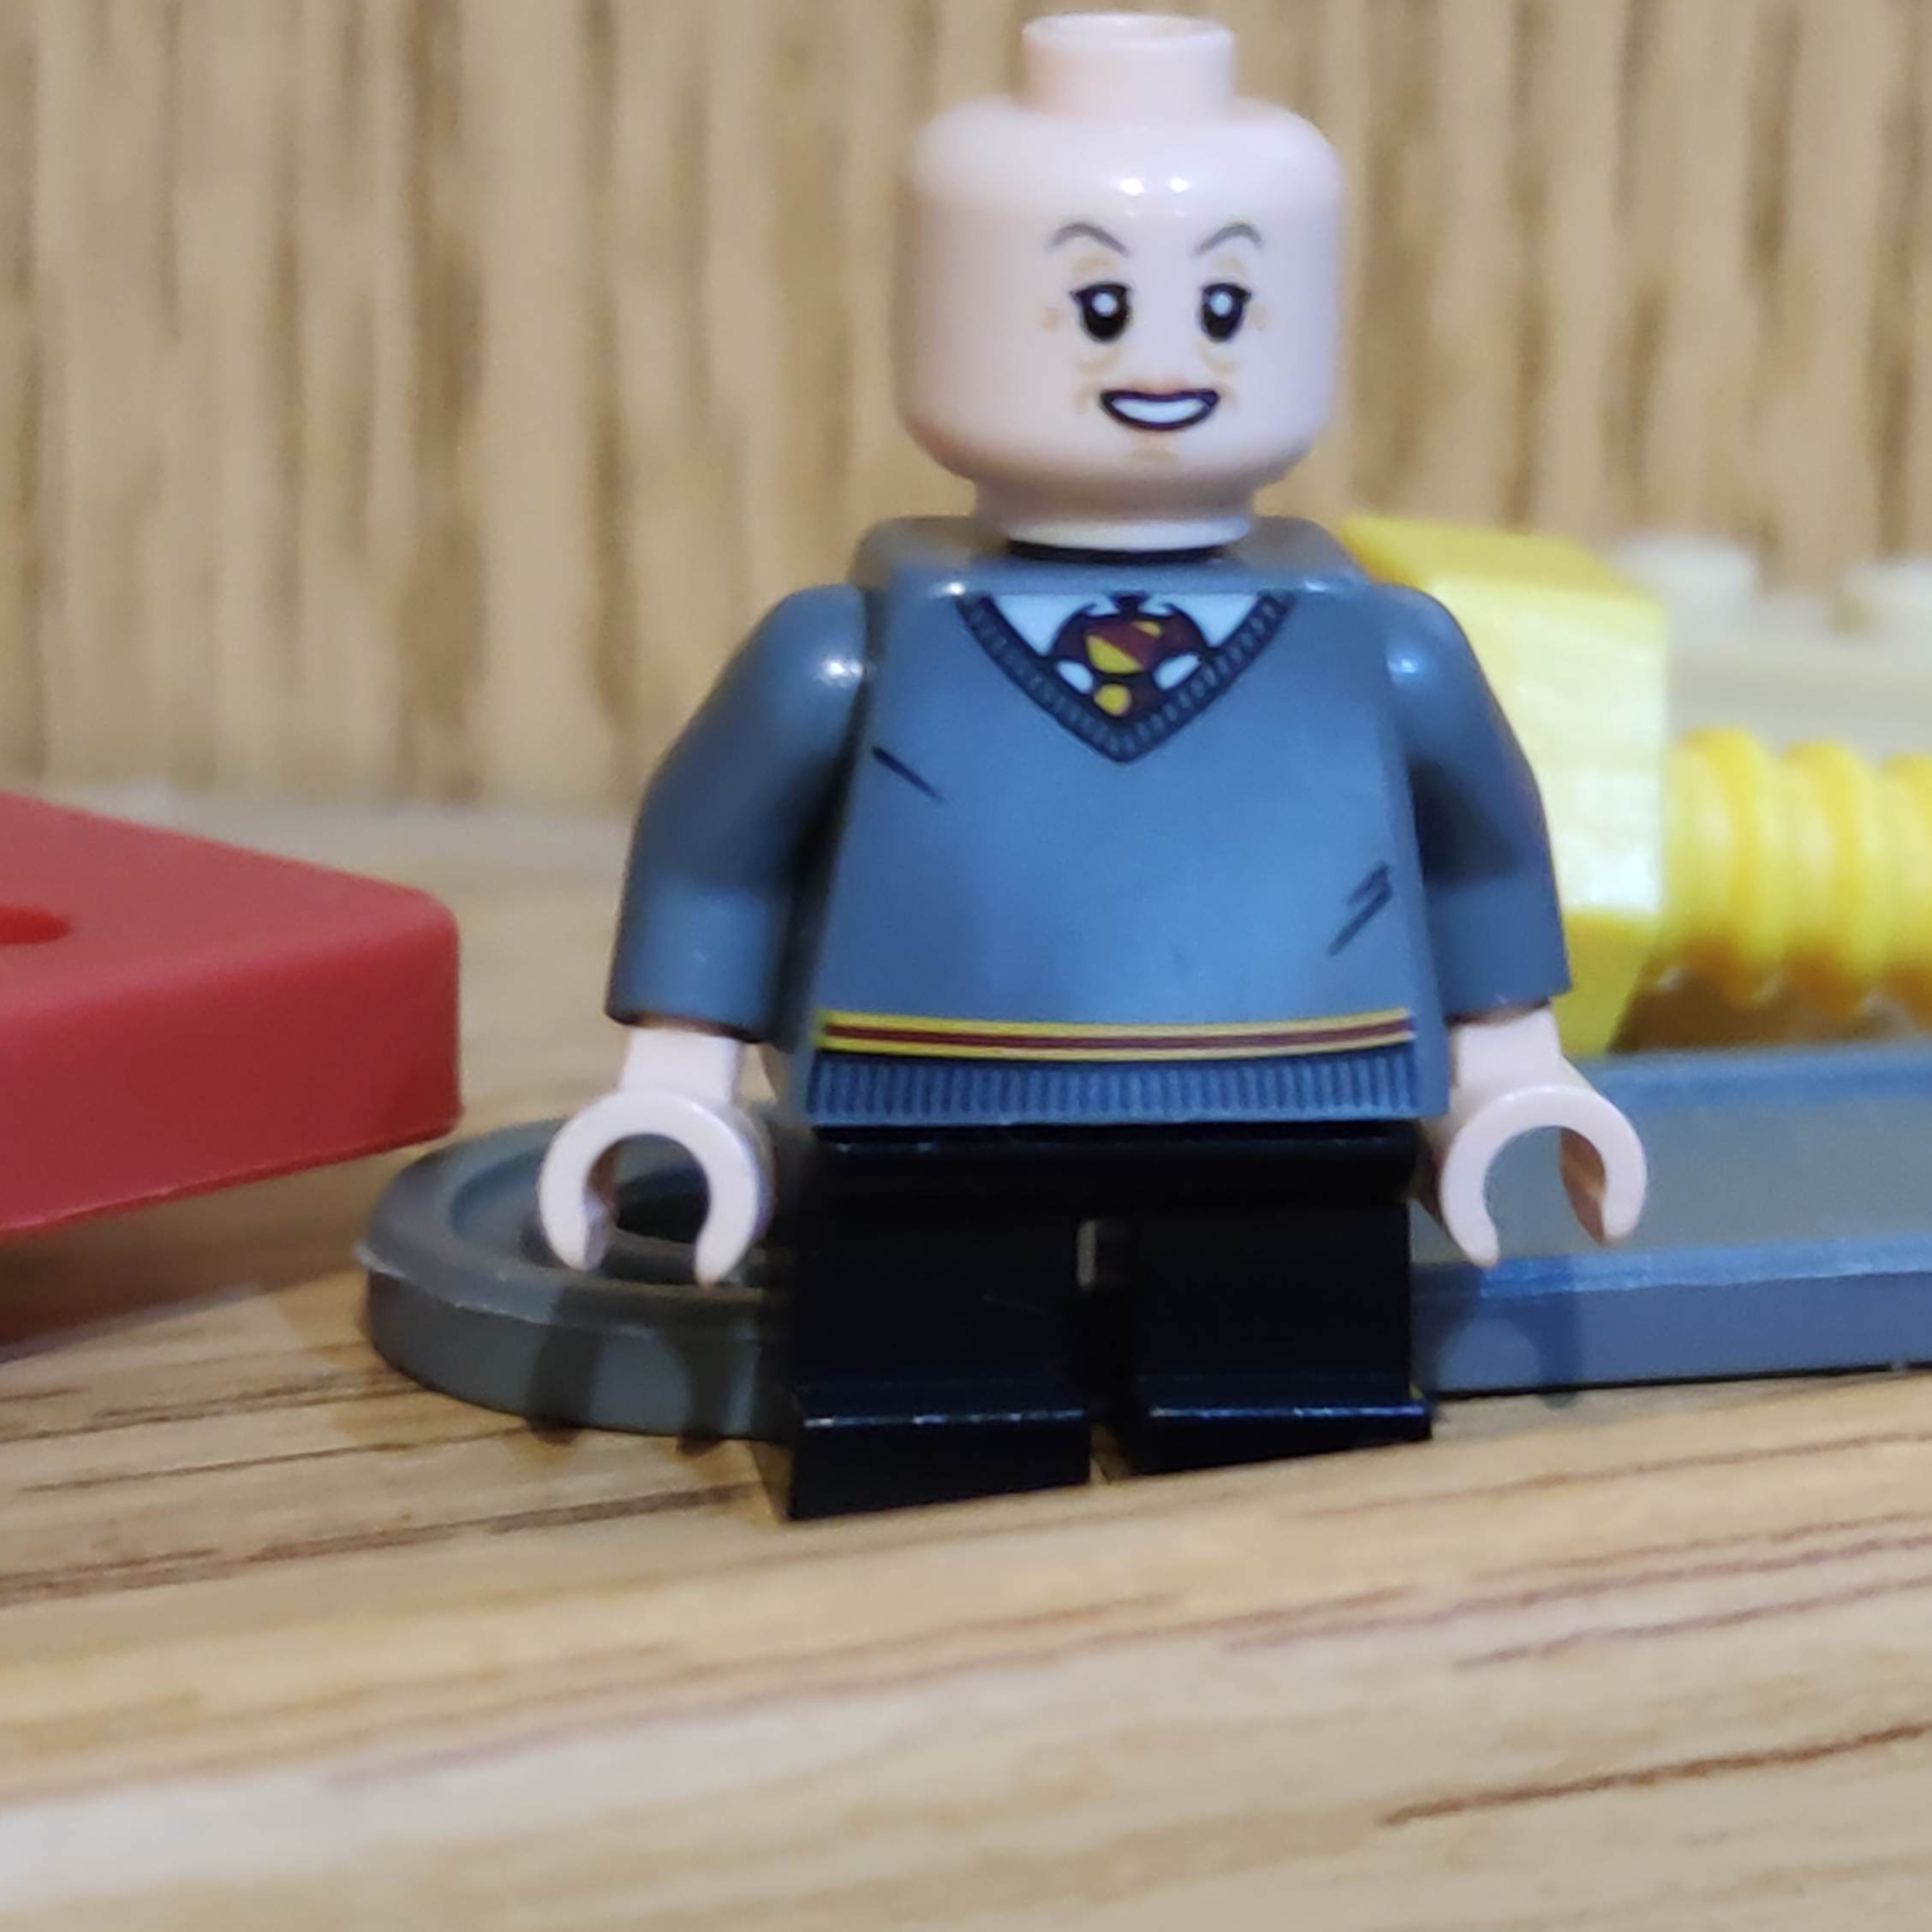lego: (540, 16, 1651, 1536)
